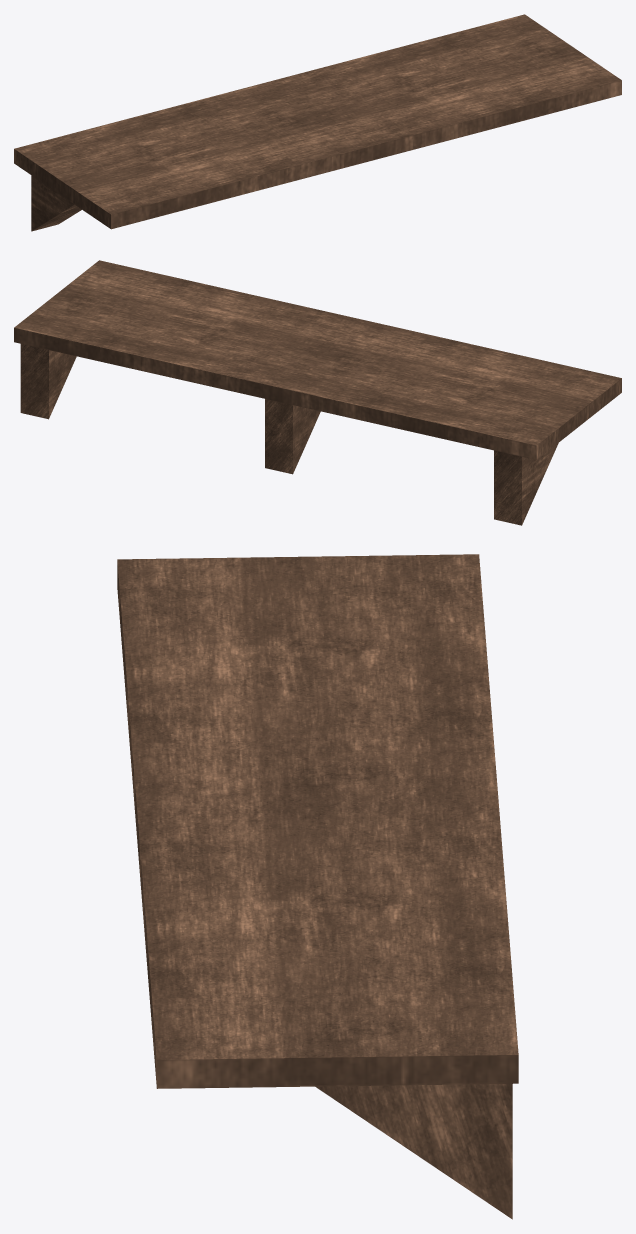
Rendered from wall_stand.glb.
3 views of the same model, one above another, from view 1: azimuth 30°, elevation 25°; view 2: azimuth 150°, elevation 25°; view 3: azimuth 270°, elevation 25° (orthographic). The views are drawn at different scales.
Parts seen in each view (by area): view 1: pCube15; view 2: pCube15; view 3: pCube15.
Part boxes in pixels (box(x1,y1,x2,y2)): pCube15: box(14, 14, 621, 231); pCube15: box(14, 260, 621, 525); pCube15: box(117, 554, 518, 1219).
Bounding box in the file's own units: 0.6094 × 0.0956 × 0.2044.
1 material, 1 textured.
